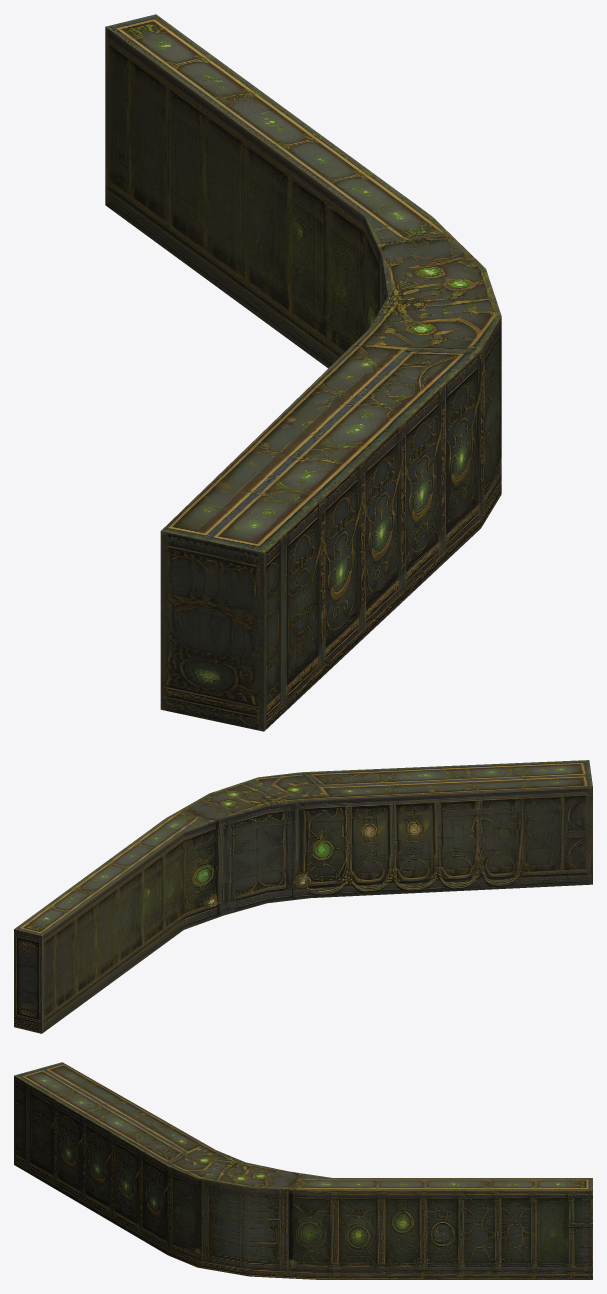
The model's file is ramp_pale_down_right_lvl_1.glb.
3 renders of one model, top to bottom at view 1: azimuth 30°, elevation 25°; view 2: azimuth 150°, elevation 25°; view 3: azimuth 270°, elevation 25°, orthographic. The views are drawn at different scales.
Parts seen in each view (by area): view 1: Mesh_0.002; view 2: Mesh_0.002; view 3: Mesh_0.002.
Boxes of the visible parts, <box> form: Mesh_0.002: <box>105,14,501,731</box>; Mesh_0.002: <box>14,760,592,1033</box>; Mesh_0.002: <box>14,1062,592,1279</box>.
Bounding box in the file's own units: 0.1284 × 0.0417 × 0.2447.
Materials: 1 (1 with a texture image).
